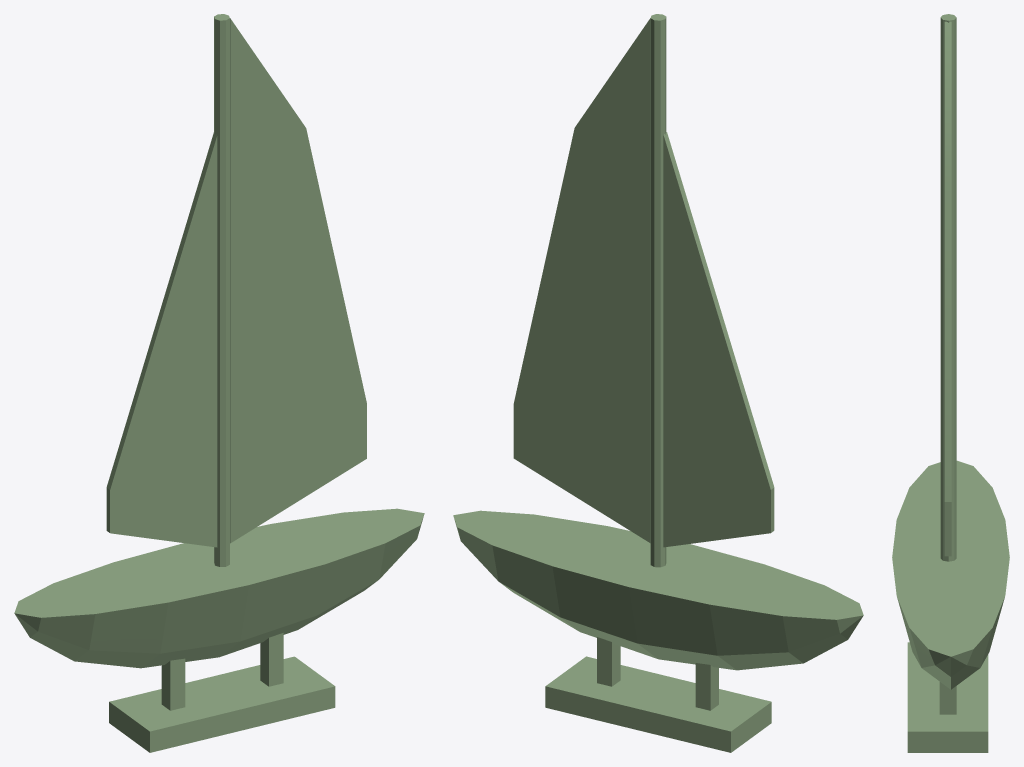
File: Wooden_Boat_Miniature.fbx
3 renders of one model, left to right at view 1: azimuth 30°, elevation 25°; view 2: azimuth 150°, elevation 25°; view 3: azimuth 270°, elevation 25°, orthographic.
Visible parts, largest first — view 1: Wooden_Boat_Miniature; view 2: Wooden_Boat_Miniature; view 3: Wooden_Boat_Miniature.
Boxes of the visible parts, box(x1,y1,x2,y2) form: Wooden_Boat_Miniature: box(14, 14, 424, 752); Wooden_Boat_Miniature: box(453, 14, 863, 752); Wooden_Boat_Miniature: box(892, 14, 1009, 752).
Bounding box in the file's own units: 39.84 × 64.75 × 10.
